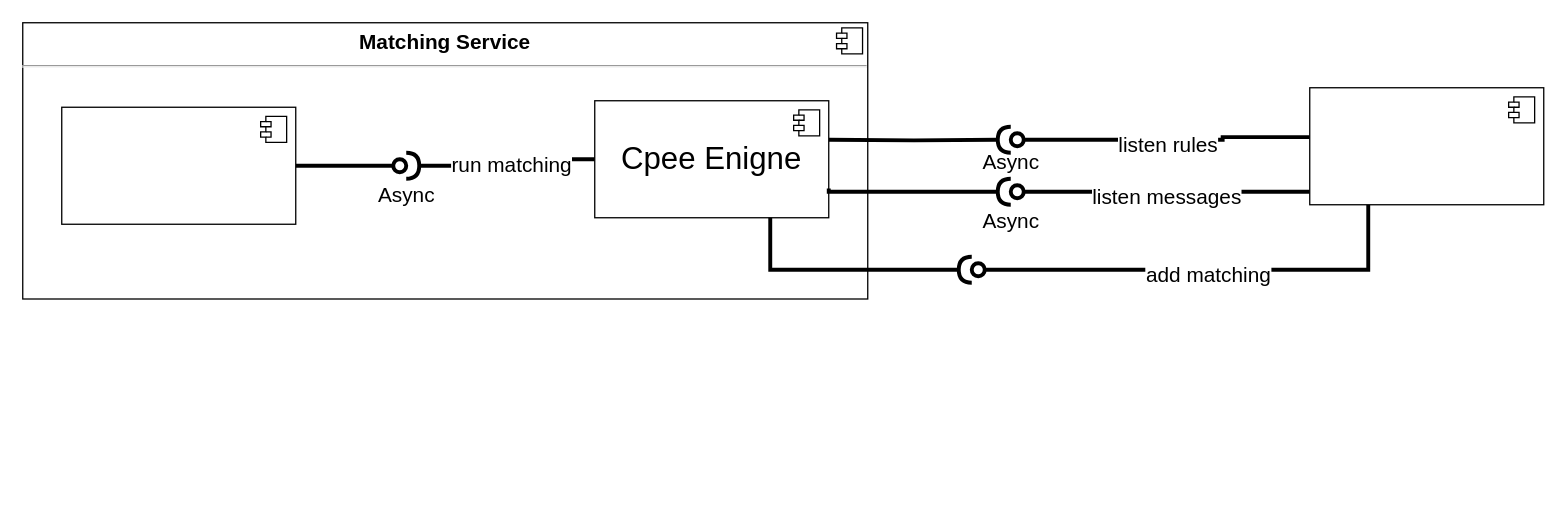
This 1567x507 diagram has some shape labels left out. The shapes that lost their labels are listed below. From the top down, each one's centre as x and y in pixels, then its label:
At pixel 178 165: "Matching Server".
At pixel 1426 145: "Correlator".
